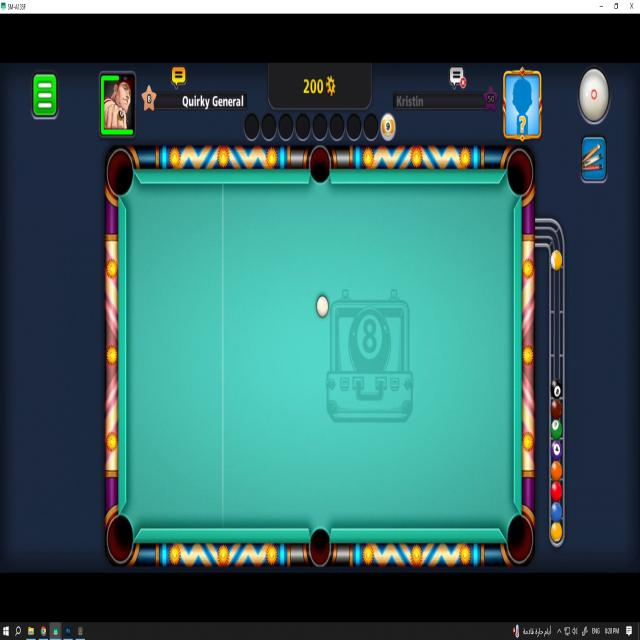white_cue_ball: (317, 296, 328, 317)
